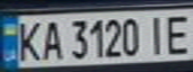0: (121, 15, 145, 56)
1: (84, 16, 106, 58)
2: (103, 15, 124, 60)
3: (66, 16, 90, 60)
A: (36, 17, 66, 61)
E: (160, 11, 193, 55)
I: (142, 12, 172, 56)
K: (12, 18, 45, 62)
